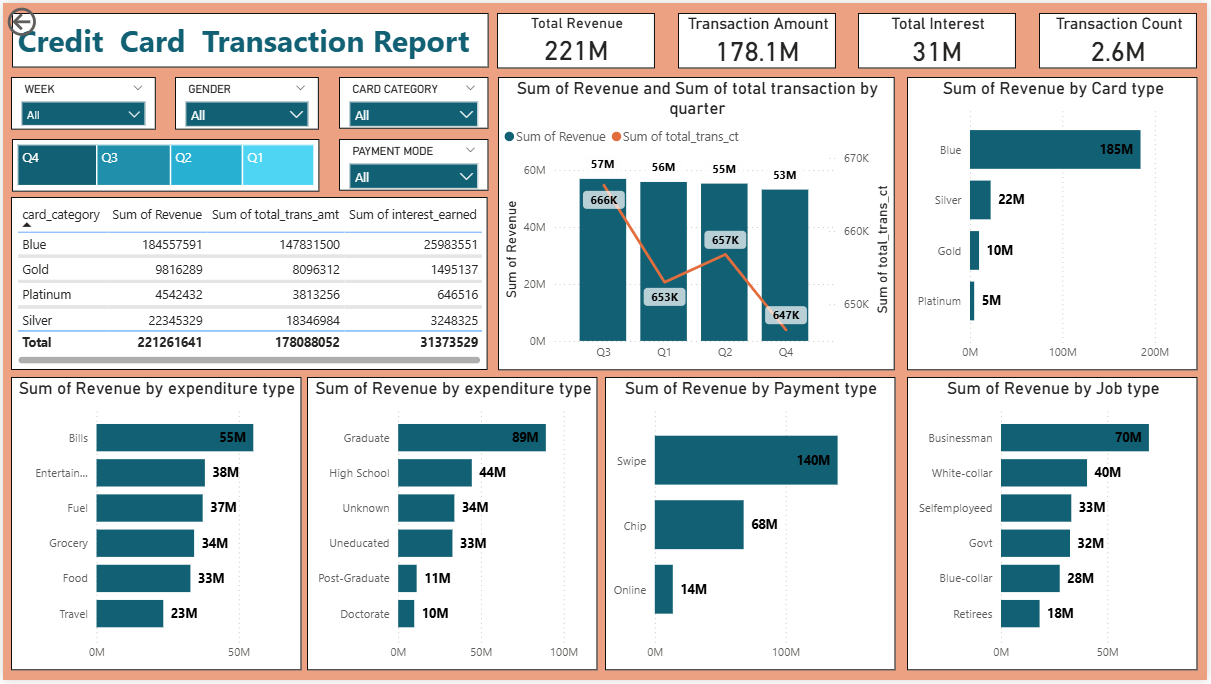

The dashboard page shown, as its layout file describes it:
{"tool":"powerbi","page":{"name":"CC Transaction","canvas":[1280,720],"ordinal":1},"visuals":[{"type":"textbox","box":[9.2,11,507,58],"z":0},{"type":"lineStackedColumnComboChart","title":"Sum of Revenue and Sum of total transaction by quarter","fields":{"Category":["public cc_detail.qtr"],"Y":["Sum(public cc_detail.Revenue)"],"Y2":["Sum(public cc_detail.total_trans_ct)"]},"box":[526.7,78.9,422.1,312.1],"z":1000},{"type":"clusteredBarChart","title":"Sum of Revenue by expenditure type","fields":{"Y":["Sum(public cc_detail.Revenue)"],"Category":["public cc_detail.exp_type"]},"box":[8.9,398.1,308.6,312.1],"z":2000},{"type":"clusteredBarChart","title":"Sum of Revenue by expenditure type","fields":{"Y":["Sum(public cc_detail.Revenue)"],"Category":["public cust_detail.education_level"]},"box":[323.6,398.1,309.5,312.1],"z":3000},{"type":"clusteredBarChart","title":"Sum of Revenue by Job type","fields":{"Y":["Sum(public cc_detail.Revenue)"],"Category":["public cust_detail.customer_job"]},"box":[961.2,398.1,309.5,312.1],"z":4000},{"type":"clusteredBarChart","title":"Sum of Revenue by Card type","fields":{"Y":["Sum(public cc_detail.Revenue)"],"Category":["public cc_detail.card_category"]},"box":[961.2,78.9,309.5,312.1],"z":5000},{"type":"clusteredBarChart","title":"Sum of Revenue by Payment type","fields":{"Y":["Sum(public cc_detail.Revenue)"],"Category":["public cc_detail.use_chip"]},"box":[640.2,398.1,308.6,312.1],"z":6000},{"type":"tableEx","fields":{"Values":["public cc_detail.card_category","Sum(public cc_detail.Revenue)","Sum(public cc_detail.total_trans_amt)","Sum(public cc_detail.interest_earned)"]},"box":[8.9,206.6,507.2,184.4],"z":7000},{"type":"actionButton","box":[0,0,100,40],"z":8000},{"type":"card","title":"Transaction Count","fields":{"Values":["Sum(public cc_detail.total_trans_ct)"]},"box":[1102.2,10.6,168.5,58.5],"z":9000},{"type":"card","title":"Total Revenue","fields":{"Values":["Sum(public cc_detail.Revenue)"]},"box":[525.8,10.6,168.5,58.5],"z":10000},{"type":"card","title":"Transaction Amount","fields":{"Values":["Sum(public cc_detail.total_trans_amt)"]},"box":[718.2,10.6,168.5,58.5],"z":11000},{"type":"card","title":"Total Interest","fields":{"Values":["Sum(public cc_detail.interest_earned)"]},"box":[909.8,10.6,168.5,58.5],"z":12000},{"type":"slicer","fields":{"Values":["public cc_detail.week_start_date"]},"box":[8.9,78.9,154.3,55.9],"z":13000},{"type":"slicer","fields":{"Values":["public cust_detail.gender"]},"box":[183.1,79.1,152.8,56.1],"z":14000},{"type":"slicer","fields":{"Values":["public cc_detail.card_category"]},"box":[357,79.1,159.2,55.2],"z":15000},{"type":"slicer","fields":{"Values":["public cc_detail.use_chip"]},"box":[357,144.5,159.2,55.2],"z":16000},{"type":"treemap","fields":{"Values":["Sum(public cc_detail.client_num)"],"Group":["public cc_detail.qtr"]},"box":[9.3,144.6,327.2,55.6],"z":17000}]}

Visuals, with their boxes in screenshot pixels (x1, y1, x2, y2), scaled from the page's 1280x720 canvas onto the 1211x684 screenshot:
textbox: [x1=9, y1=10, x2=488, y2=66]
"Sum of Revenue and Sum of total transaction by quarter" lineStackedColumnComboChart: [x1=498, y1=75, x2=898, y2=371]
"Sum of Revenue by expenditure type" clusteredBarChart: [x1=8, y1=378, x2=300, y2=675]
"Sum of Revenue by expenditure type" clusteredBarChart: [x1=306, y1=378, x2=599, y2=675]
"Sum of Revenue by Job type" clusteredBarChart: [x1=909, y1=378, x2=1202, y2=675]
"Sum of Revenue by Card type" clusteredBarChart: [x1=909, y1=75, x2=1202, y2=371]
"Sum of Revenue by Payment type" clusteredBarChart: [x1=606, y1=378, x2=898, y2=675]
tableEx - public cc_detail.card_category x Sum(public cc_detail.Revenue): [x1=8, y1=196, x2=488, y2=371]
actionButton: [x1=0, y1=0, x2=95, y2=38]
"Transaction Count" card: [x1=1043, y1=10, x2=1202, y2=66]
"Total Revenue" card: [x1=497, y1=10, x2=657, y2=66]
"Transaction Amount" card: [x1=679, y1=10, x2=839, y2=66]
"Total Interest" card: [x1=861, y1=10, x2=1020, y2=66]
slicer - public cc_detail.week_start_date: [x1=8, y1=75, x2=154, y2=128]
slicer - public cust_detail.gender: [x1=173, y1=75, x2=318, y2=128]
slicer - public cc_detail.card_category: [x1=338, y1=75, x2=488, y2=128]
slicer - public cc_detail.use_chip: [x1=338, y1=137, x2=488, y2=190]
treemap - Sum(public cc_detail.client_num) x public cc_detail.qtr: [x1=9, y1=137, x2=318, y2=190]
